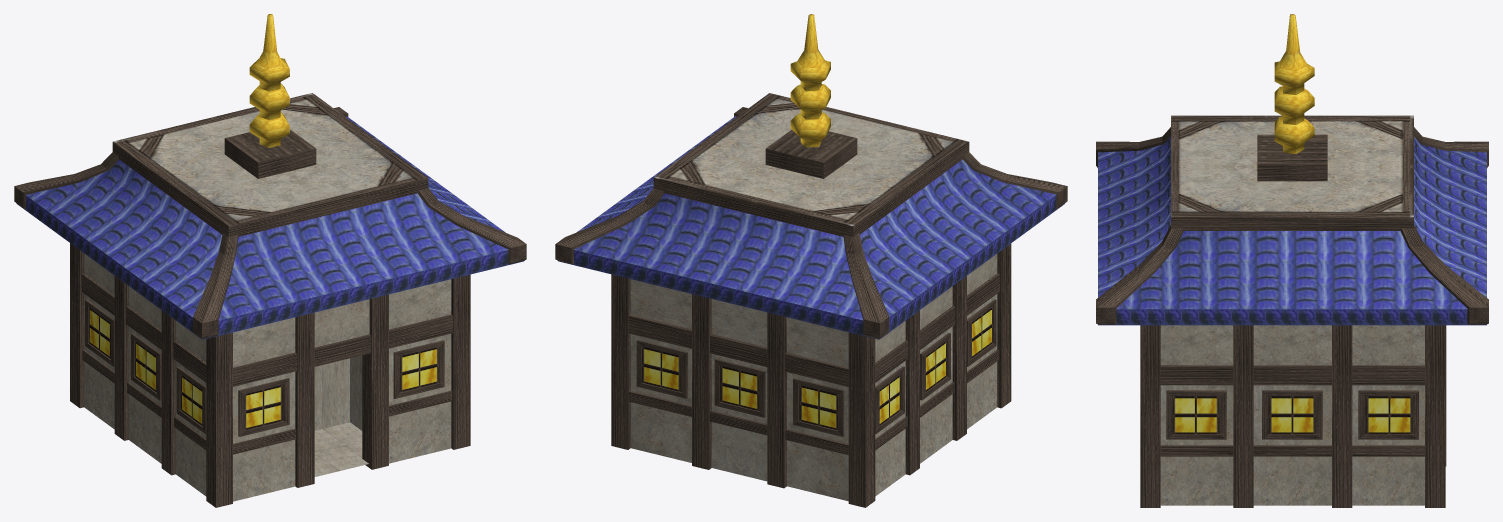
File: casa-oriental-0-b.fbx
3 views of the same model, side by side, from view 1: azimuth 30°, elevation 25°; view 2: azimuth 150°, elevation 25°; view 3: azimuth 270°, elevation 25° (orthographic). The views are drawn at different scales.
Visible parts, largest first — view 1: Cube.000, Cube.002, Cube.001; view 2: Cube.000, Cube.002; view 3: Cube.000, Cube.002.
Part boxes in pixels (<box>): Cube.000: <box>14,14,526,507</box>; Cube.002: <box>88,307,439,430</box>; Cube.001: <box>314,355,368,476</box>; Cube.000: <box>555,14,1067,507</box>; Cube.002: <box>642,307,993,430</box>; Cube.000: <box>1096,14,1488,507</box>; Cube.002: <box>1172,396,1412,434</box>.
Size of the model in its own units: 5.37 by 6.46 by 5.37.
